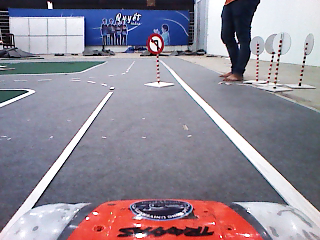ban: (146, 33, 165, 54)
